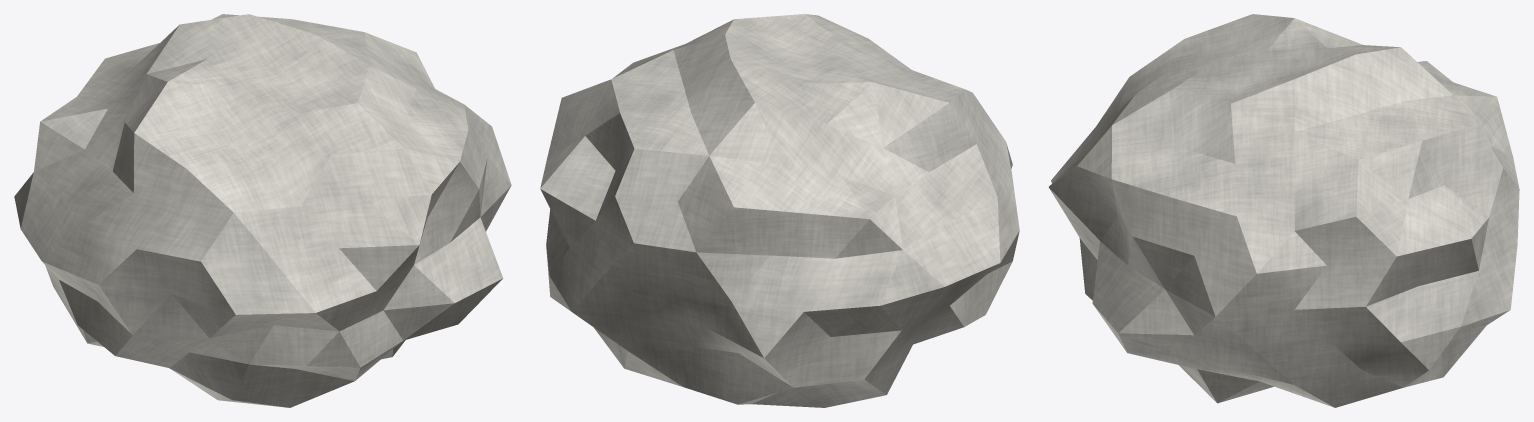
File: paper_rock_01.gltf
3 renders of one model, left to right at view 1: azimuth 30°, elevation 25°; view 2: azimuth 150°, elevation 25°; view 3: azimuth 270°, elevation 25°, orthographic.
Parts seen in each view (by area): view 1: paper_rock_01; view 2: paper_rock_01; view 3: paper_rock_01.
Part boxes in pixels (x1,y1,x2,y2): paper_rock_01: [14, 14, 511, 407]; paper_rock_01: [540, 14, 1019, 407]; paper_rock_01: [1048, 14, 1519, 407].
Bounding box in the file's own units: 0.6496 × 0.4902 × 0.6113.
Materials: 1 (1 with a texture image).
